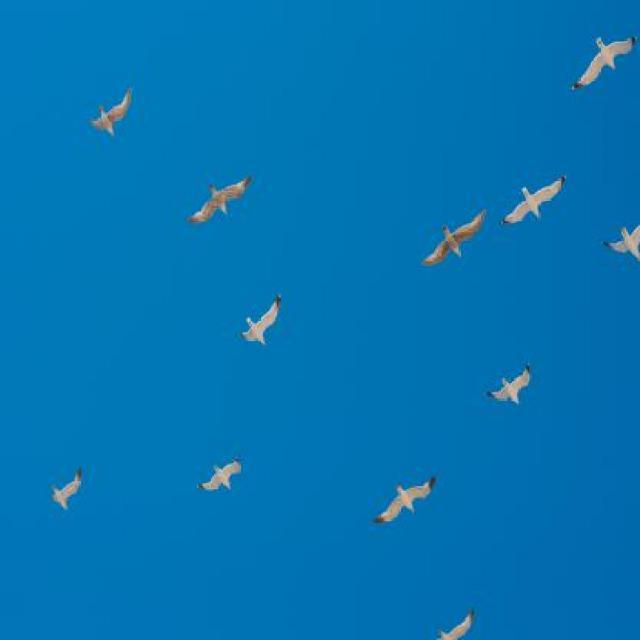bird: (570, 34, 638, 92), (421, 209, 487, 266), (500, 172, 568, 226), (371, 472, 438, 526), (186, 174, 252, 228), (240, 294, 282, 350), (87, 88, 133, 138), (484, 362, 532, 406), (46, 465, 83, 513), (600, 223, 640, 266), (195, 456, 242, 492), (431, 607, 479, 640)
